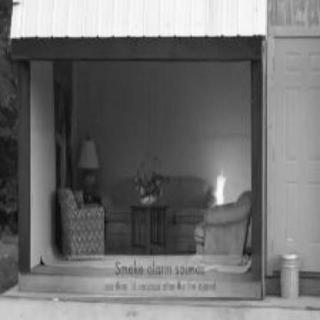Fire: (210, 172, 228, 205)
